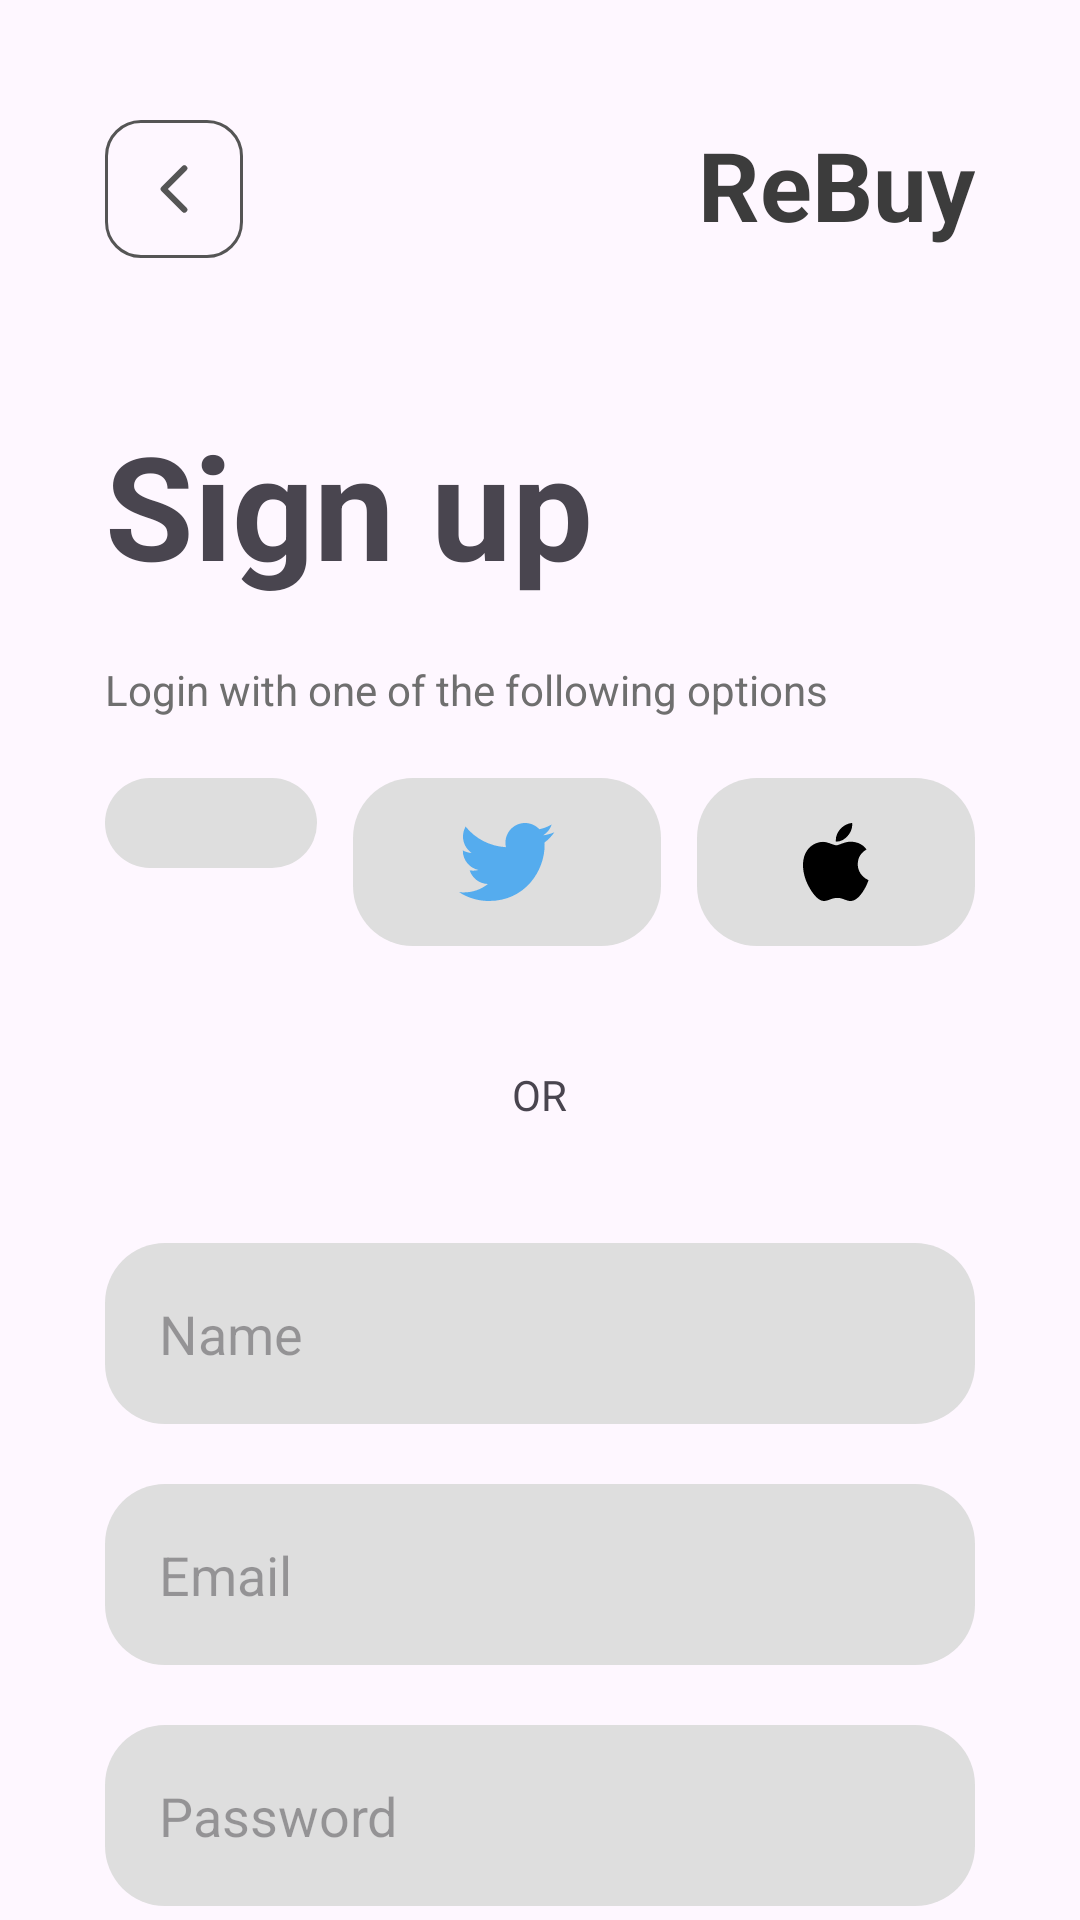

Screen size 1080px×1920px. Icon name, then its center in pixels as point (x, y):
back: point (174, 189)
